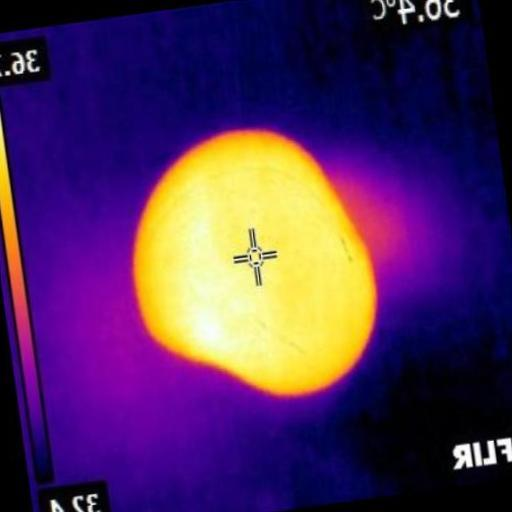alphanso: (133, 130, 376, 396), (189, 273, 190, 276)
